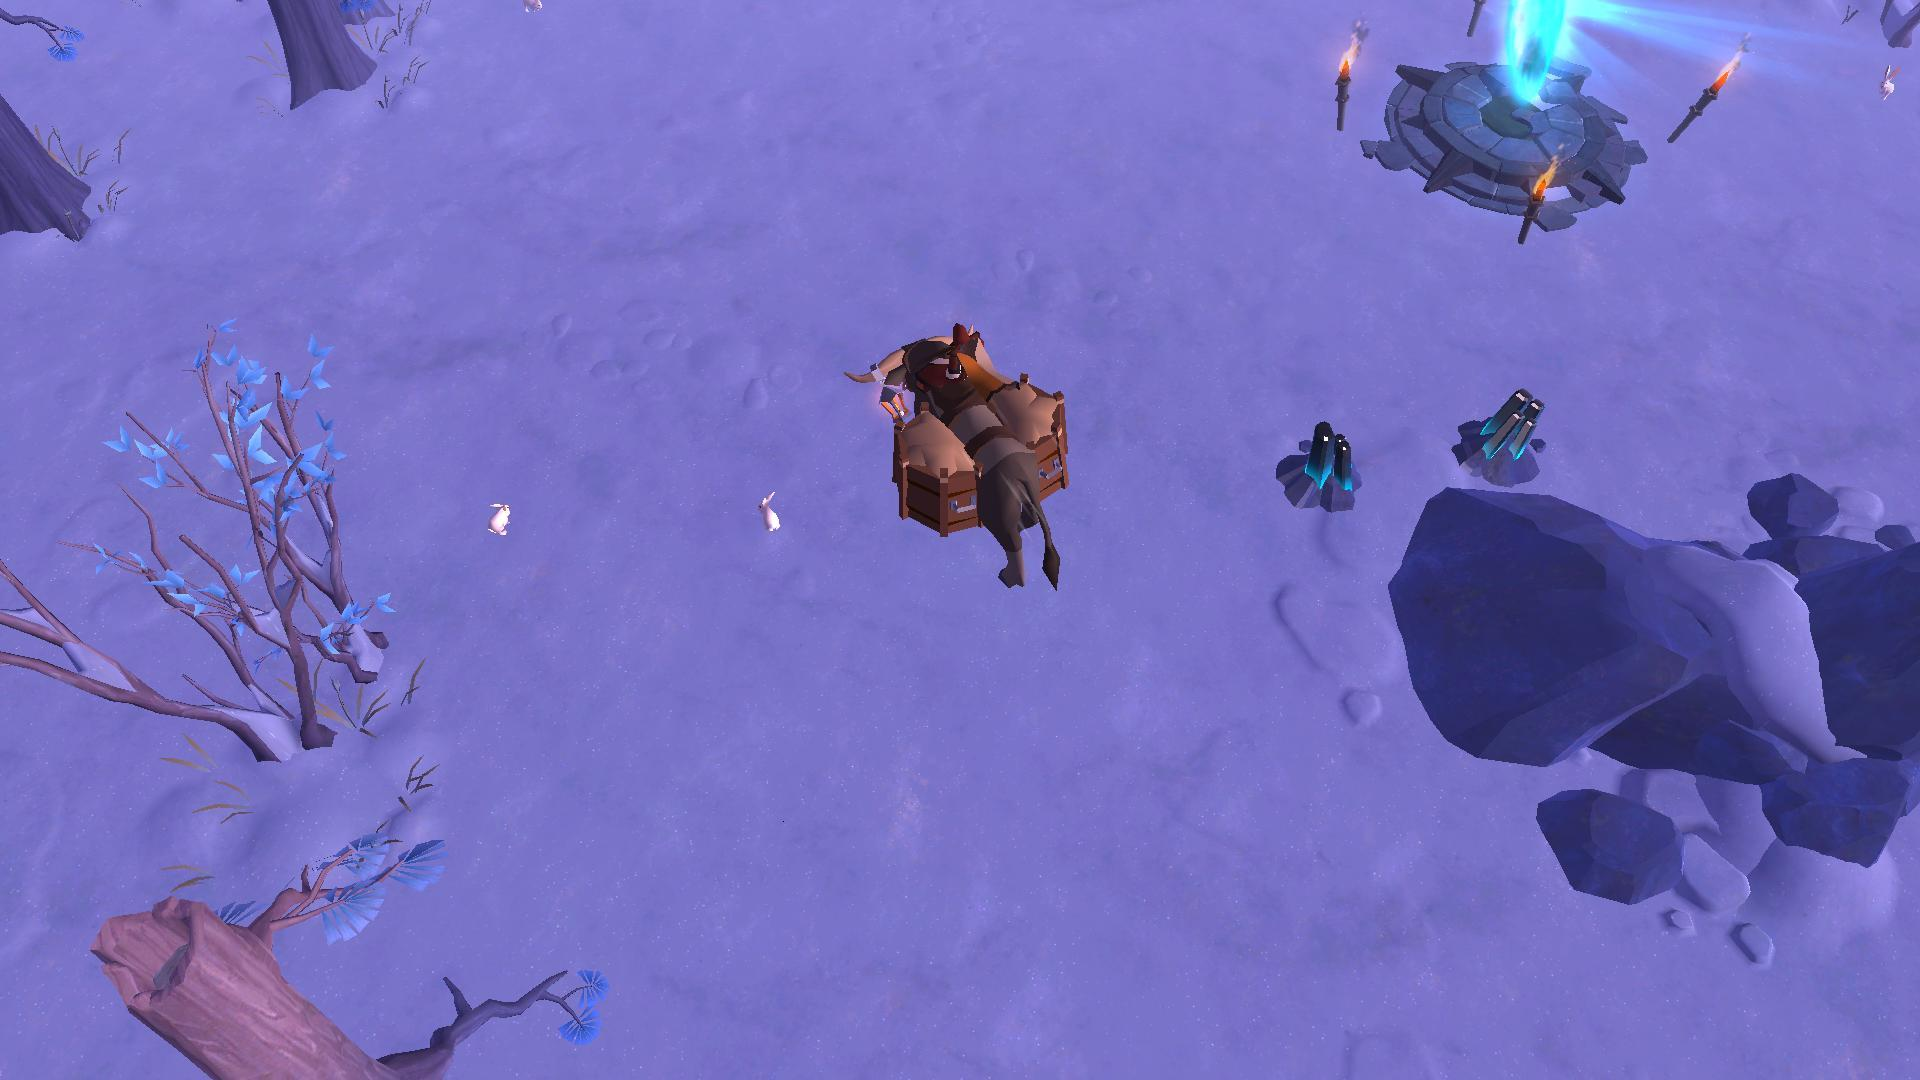ore_t4: (1476, 375, 1542, 467), (1300, 414, 1356, 495)
